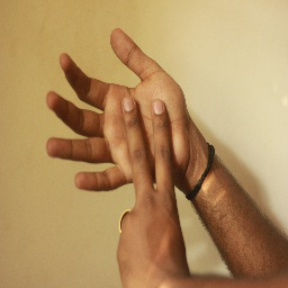N: (44, 25, 197, 237)
